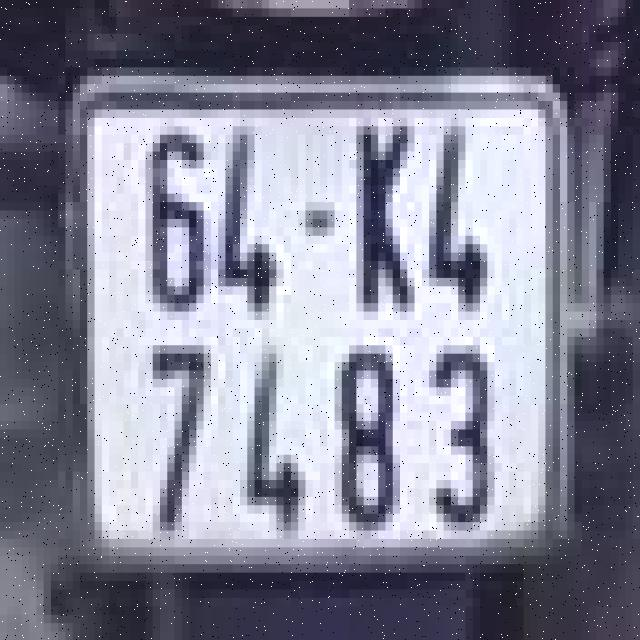3: (414, 332, 494, 534)
4: (426, 101, 498, 328), (218, 105, 291, 324), (236, 341, 309, 526)
6: (131, 114, 211, 324)
7: (142, 324, 214, 543)
8: (328, 337, 408, 539)
K: (346, 101, 426, 320)
